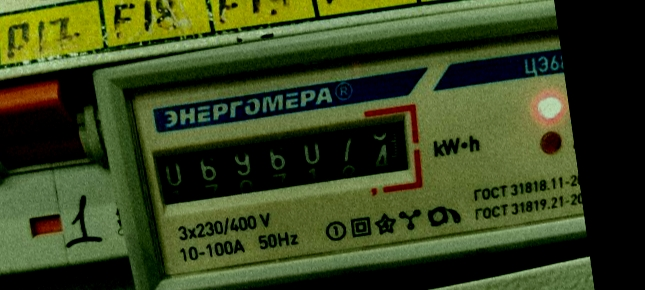0: (163, 158, 186, 191), (302, 136, 325, 168)
4: (370, 143, 393, 173)
6: (196, 152, 222, 185), (267, 143, 290, 173)
7: (337, 132, 358, 165)
9: (233, 149, 255, 180)
screen: (135, 98, 430, 227)
